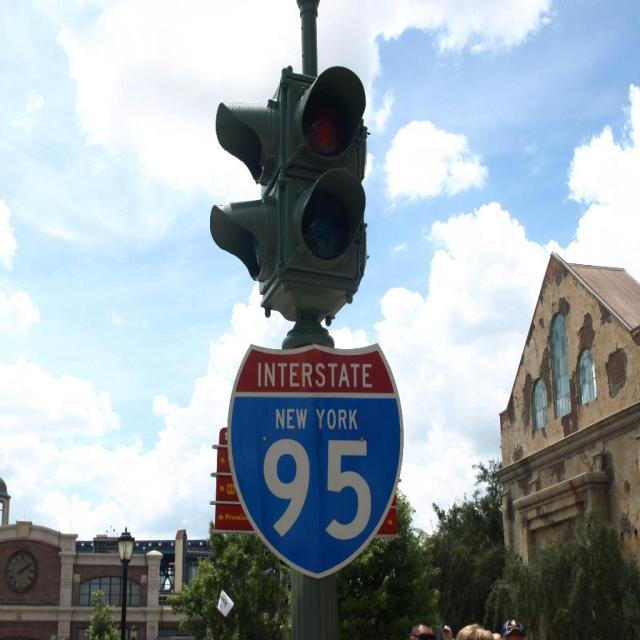off traffic light: (208, 75, 281, 293)
traffic light: (279, 65, 367, 280)
